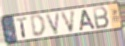A: (79, 9, 97, 31)
B: (92, 6, 111, 31)
D: (30, 14, 47, 38)
T: (16, 16, 28, 38)
V: (60, 9, 77, 34), (45, 11, 61, 36)
